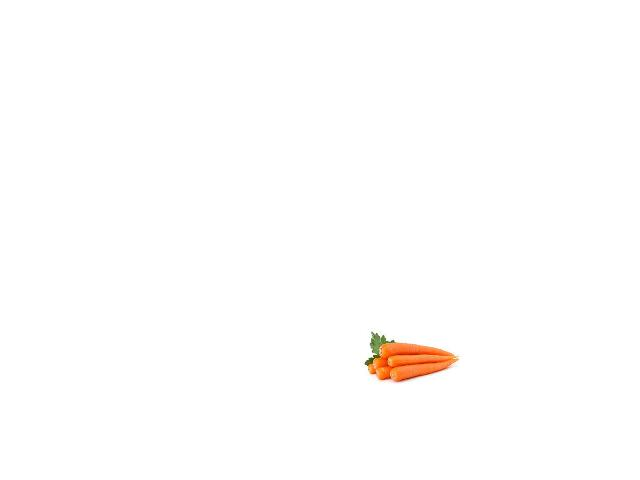carrot: (364, 363, 377, 375)
